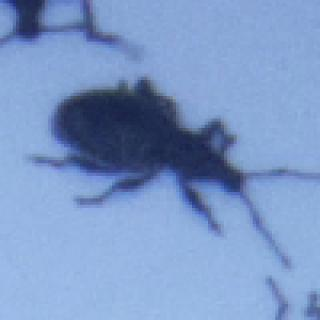bvw: (22, 74, 320, 268)
